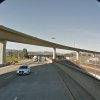Bridge: (3, 19, 92, 60)
